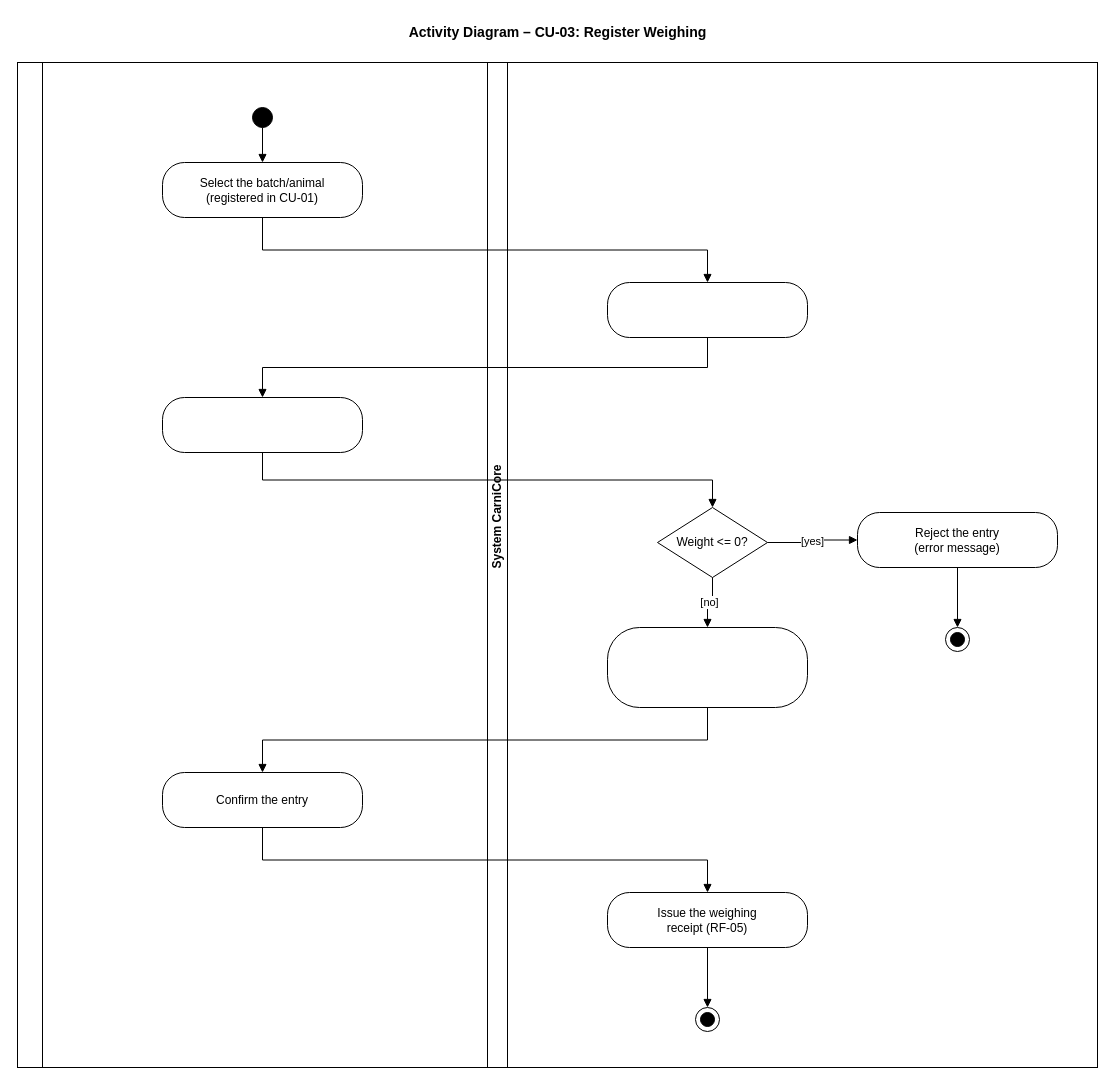
Some shapes in this 1115 by 1086 pixel diagram are drawn without their labels. Each missing label, with the centre of its shape:
Enter the weight: [262,424]
Invoke "Calculate Cost per Pound" (include) and calculate the total cost: [707,667]
Request the weight in pounds: [707,310]
